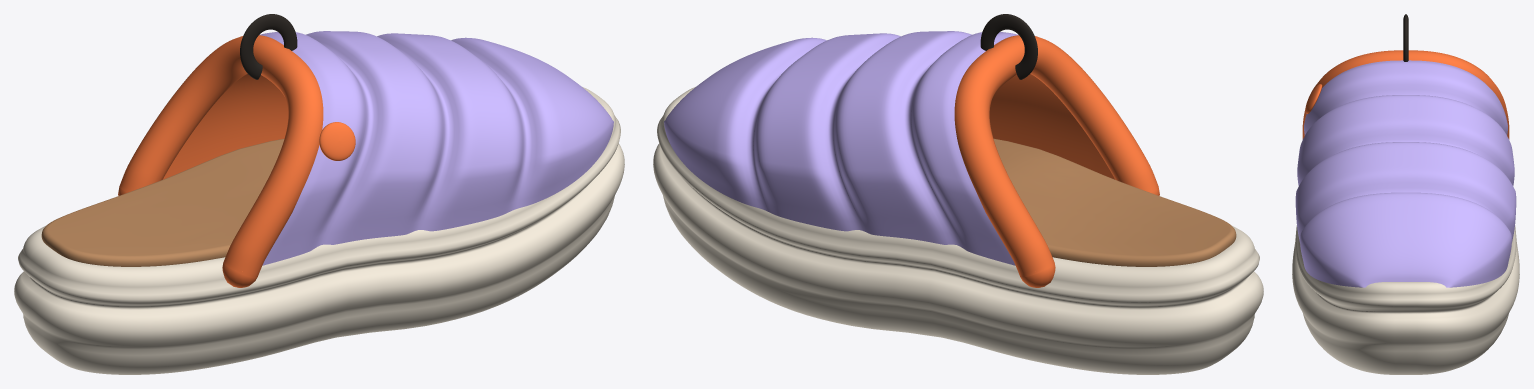
The model's file is sloffa-lounger.glb.
3 renders of one model, left to right at view 1: azimuth 30°, elevation 25°; view 2: azimuth 150°, elevation 25°; view 3: azimuth 270°, elevation 25°, orthographic. The views are drawn at different scales.
Visible parts, largest first — view 1: sole, upper, lining, footbed, pull_loop, patch; view 2: sole, upper, lining, footbed, pull_loop; view 3: upper, sole, lining, pull_loop, patch.
Boxes of the visible parts, left/top/right/bottom form: sole: left=14, top=87, right=624, bottom=374; upper: left=259, top=31, right=613, bottom=265; lining: left=118, top=35, right=323, bottom=287; footbed: left=41, top=138, right=284, bottom=266; pull_loop: left=240, top=14, right=297, bottom=79; patch: left=319, top=122, right=355, bottom=160; sole: left=653, top=87, right=1263, bottom=374; upper: left=664, top=31, right=1018, bottom=265; lining: left=954, top=35, right=1159, bottom=287; footbed: left=993, top=138, right=1236, bottom=266; pull_loop: left=980, top=14, right=1037, bottom=79; upper: left=1295, top=60, right=1516, bottom=287; sole: left=1292, top=225, right=1519, bottom=374; lining: left=1302, top=50, right=1509, bottom=139; pull_loop: left=1403, top=14, right=1408, bottom=61; patch: left=1305, top=84, right=1322, bottom=113.
Size of the model in its own units: 2.67 by 1.34 by 1.08.
